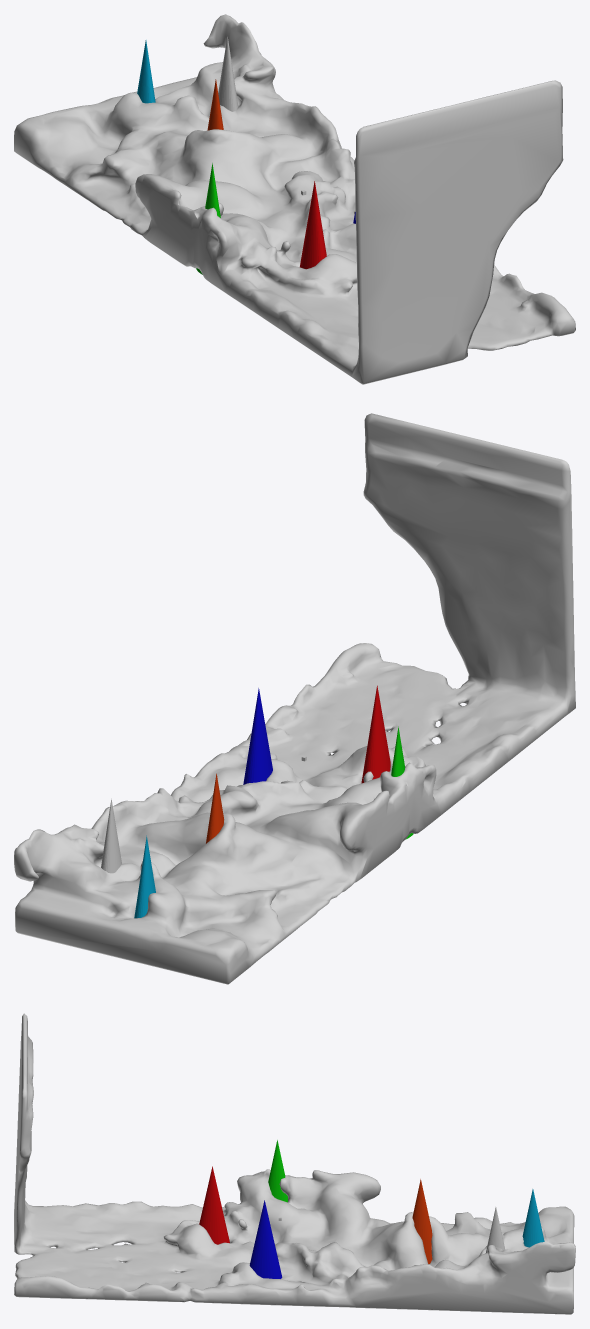
3 views of the same model, one above another, from view 1: azimuth 30°, elevation 25°; view 2: azimuth 150°, elevation 25°; view 3: azimuth 270°, elevation 25° (orthographic). The views are drawn at different scales.
Visible parts, largest first — view 1: Liquid_Domain, 円錐.001, 円錐, 円錐.005; view 2: Liquid_Domain, 円錐.002, 円錐.001, 円錐, 円錐.005; view 3: Liquid_Domain, 円錐.002, 円錐.001, 円錐.004, 円錐.005, 円錐.003, 円錐.
Part boxes in pixels (x1=…): Liquid_Domain: x1=14, y1=14, x2=575, y2=384; 円錐.001: x1=300, y1=181, x2=326, y2=269; 円錐: x1=218, y1=36, x2=238, y2=111; 円錐.005: x1=137, y1=40, x2=155, y2=103; Liquid_Domain: x1=14, y1=413, x2=575, y2=984; 円錐.002: x1=243, y1=688, x2=272, y2=784; 円錐.001: x1=361, y1=685, x2=390, y2=783; 円錐: x1=101, y1=798, x2=121, y2=873; 円錐.005: x1=134, y1=835, x2=155, y2=918; Liquid_Domain: x1=14, y1=1013, x2=575, y2=1314; 円錐.002: x1=249, y1=1200, x2=282, y2=1278; 円錐.001: x1=199, y1=1166, x2=229, y2=1244; 円錐.004: x1=412, y1=1179, x2=432, y2=1263; 円錐.005: x1=522, y1=1189, x2=544, y2=1247; 円錐.003: x1=268, y1=1140, x2=287, y2=1202; 円錐: x1=486, y1=1207, x2=505, y2=1252.
Size of the model in its own units: 129 by 158 by 362.
